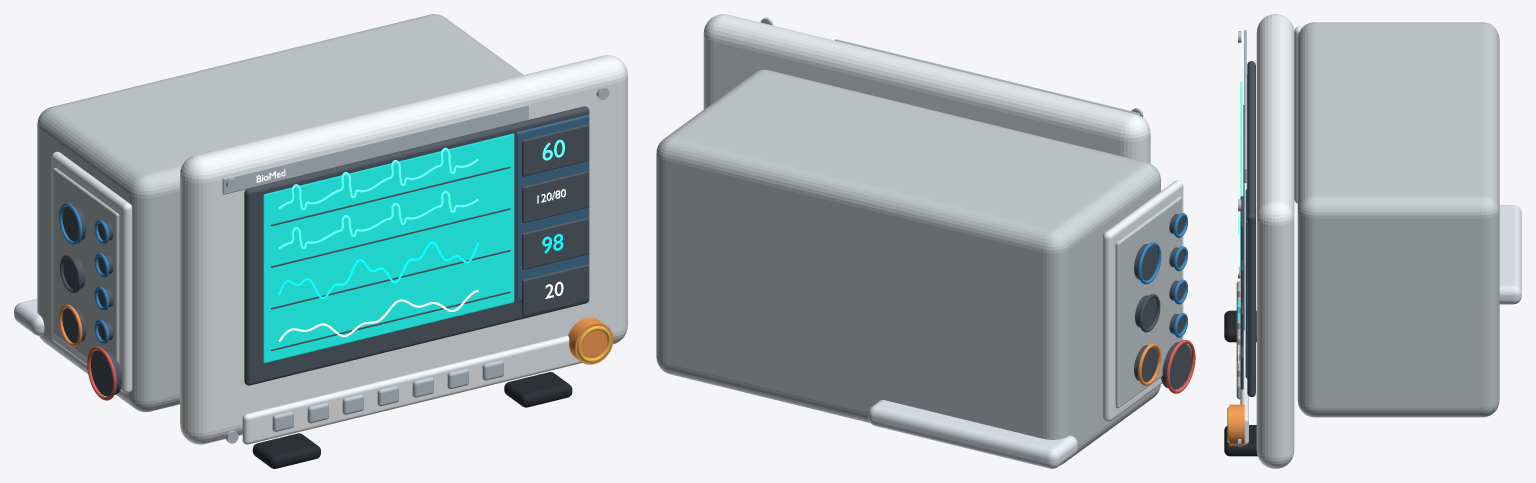
The model's file is patient-monitor.glb.
3 views of the same model, side by side, from view 1: azimuth 30°, elevation 25°; view 2: azimuth 150°, elevation 25°; view 3: azimuth 270°, elevation 25° (orthographic). The views are drawn at different scales.
Visible parts, largest first — view 1: deep rear electronics housing, molded front bezel, active waveform display, inner shadow gasket, lower control fascia, left side blue labeling plate, top manufacturer badge area, left side recessed connector plate, numeric parameter strip, vital value compartment.001, vital value compartment.003, vital value compartment.002 (+10 smaller); view 2: deep rear electronics housing, molded front bezel, left side blue labeling plate, rear chamfer impression, left side recessed connector plate, large red nibp port socket, top manufacturer badge area, temperature orange port socket, spo2 blue port socket; view 3: deep rear electronics housing, molded front bezel, inner shadow gasket, rear chamfer impression, lower control fascia, left side recessed connector plate, numeric parameter strip, orange rotary encoder, right front foot, top manufacturer badge area, left front foot.
Boxes of the visible parts, x1,y1,x2,y2 form: deep rear electronics housing: [37, 14, 523, 412]; molded front bezel: [180, 55, 627, 444]; active waveform display: [263, 133, 514, 362]; inner shadow gasket: [244, 106, 589, 385]; lower control fascia: [242, 335, 582, 444]; left side blue labeling plate: [53, 168, 119, 364]; top manufacturer badge area: [222, 104, 528, 194]; left side recessed connector plate: [51, 151, 132, 393]; numeric parameter strip: [516, 115, 589, 301]; vital value compartment.001: [522, 171, 589, 223]; vital value compartment.003: [522, 264, 589, 316]; vital value compartment.002: [522, 217, 589, 269]; deep rear electronics housing: [656, 69, 1160, 465]; molded front bezel: [703, 14, 1150, 163]; left side blue labeling plate: [1115, 196, 1181, 408]; rear chamfer impression: [868, 400, 1077, 468]; left side recessed connector plate: [1102, 180, 1183, 421]; large red nibp port socket: [1161, 342, 1191, 389]; top manufacturer badge area: [835, 39, 1140, 115]; temperature orange port socket: [1134, 345, 1157, 382]; spo2 blue port socket: [1134, 244, 1157, 280]; deep rear electronics housing: [1297, 22, 1499, 417]; molded front bezel: [1256, 14, 1294, 468]; inner shadow gasket: [1247, 61, 1255, 396]; rear chamfer impression: [1499, 205, 1521, 304]; lower control fascia: [1240, 264, 1248, 444]; left side recessed connector plate: [1294, 26, 1302, 203]; numeric parameter strip: [1245, 189, 1248, 378]; orange rotary encoder: [1229, 404, 1244, 445]; right front foot: [1224, 425, 1257, 456]; top manufacturer badge area: [1244, 30, 1246, 183]; left front foot: [1224, 310, 1256, 342].
Bounding box in the file's own units: 3.15 × 1.84 × 1.74.
